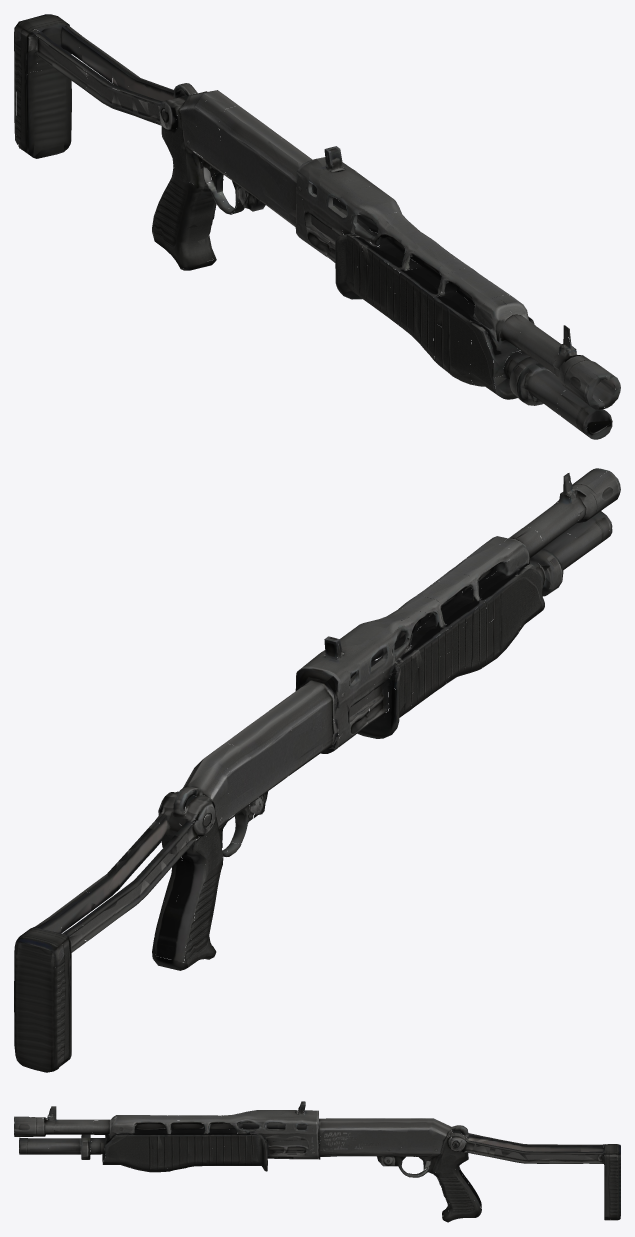
The model's file is spas12.glb.
3 renders of one model, top to bottom at view 1: azimuth 30°, elevation 25°; view 2: azimuth 150°, elevation 25°; view 3: azimuth 270°, elevation 25°, orthographic. The views are drawn at different scales.
Visible parts, largest first — view 1: tripo_node_da56dab9-70f8-4145-be00-8c06cd2f9765; view 2: tripo_node_da56dab9-70f8-4145-be00-8c06cd2f9765; view 3: tripo_node_da56dab9-70f8-4145-be00-8c06cd2f9765.
Part boxes in pixels (x1,y1,x2,y2): tripo_node_da56dab9-70f8-4145-be00-8c06cd2f9765: [14, 14, 620, 439]; tripo_node_da56dab9-70f8-4145-be00-8c06cd2f9765: [14, 468, 620, 1072]; tripo_node_da56dab9-70f8-4145-be00-8c06cd2f9765: [14, 1101, 620, 1222].
Size of the model in its own units: 0.064 by 0.2117 by 1.
1 material, 1 textured.
